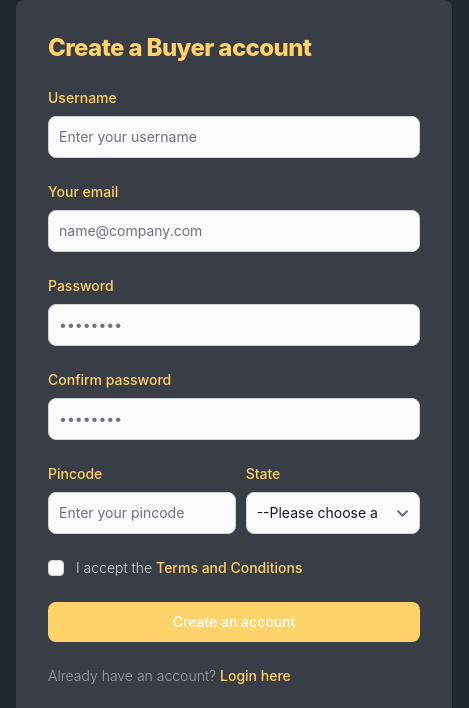
Test: SignupBuyer Component › shows validation error for invalid username
Type "user123" into the field labelled "Username".
click(234, 137); type("user123")  # box [48,116,420,158]
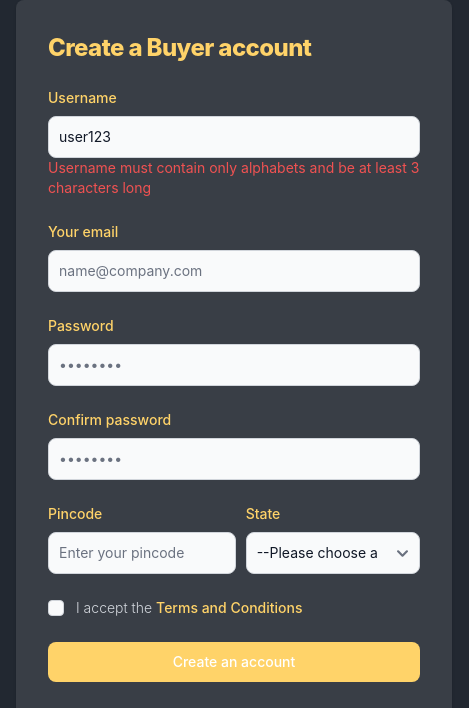
Now the text "Username must contain only alphabets" is shown, box [48,159,419,196]
